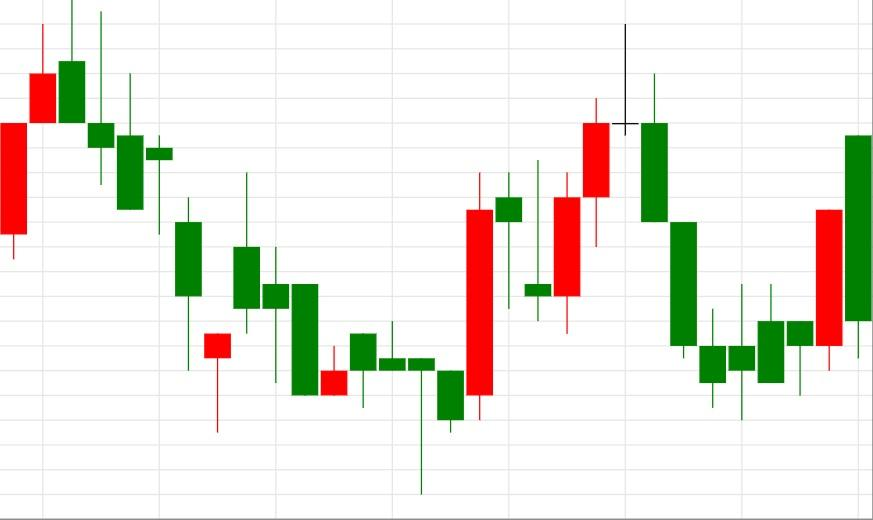evening_star_fall: (523, 23, 669, 335)
hammer_rise: (58, 0, 232, 433)
